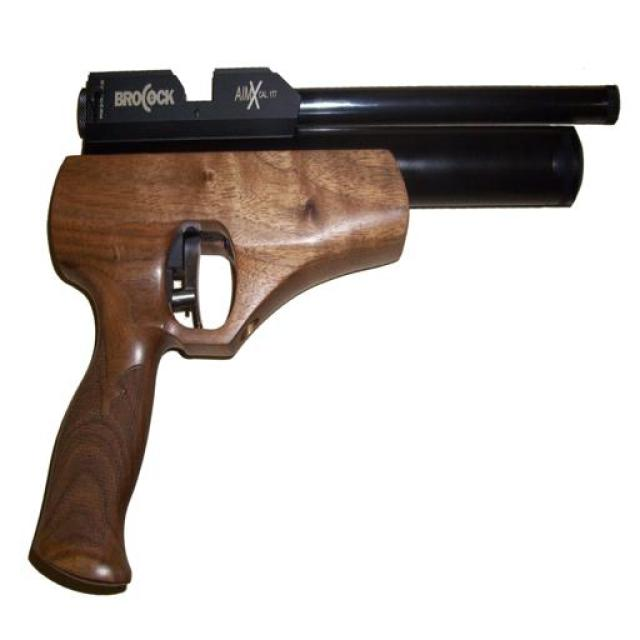pistol: (46, 49, 617, 621)
